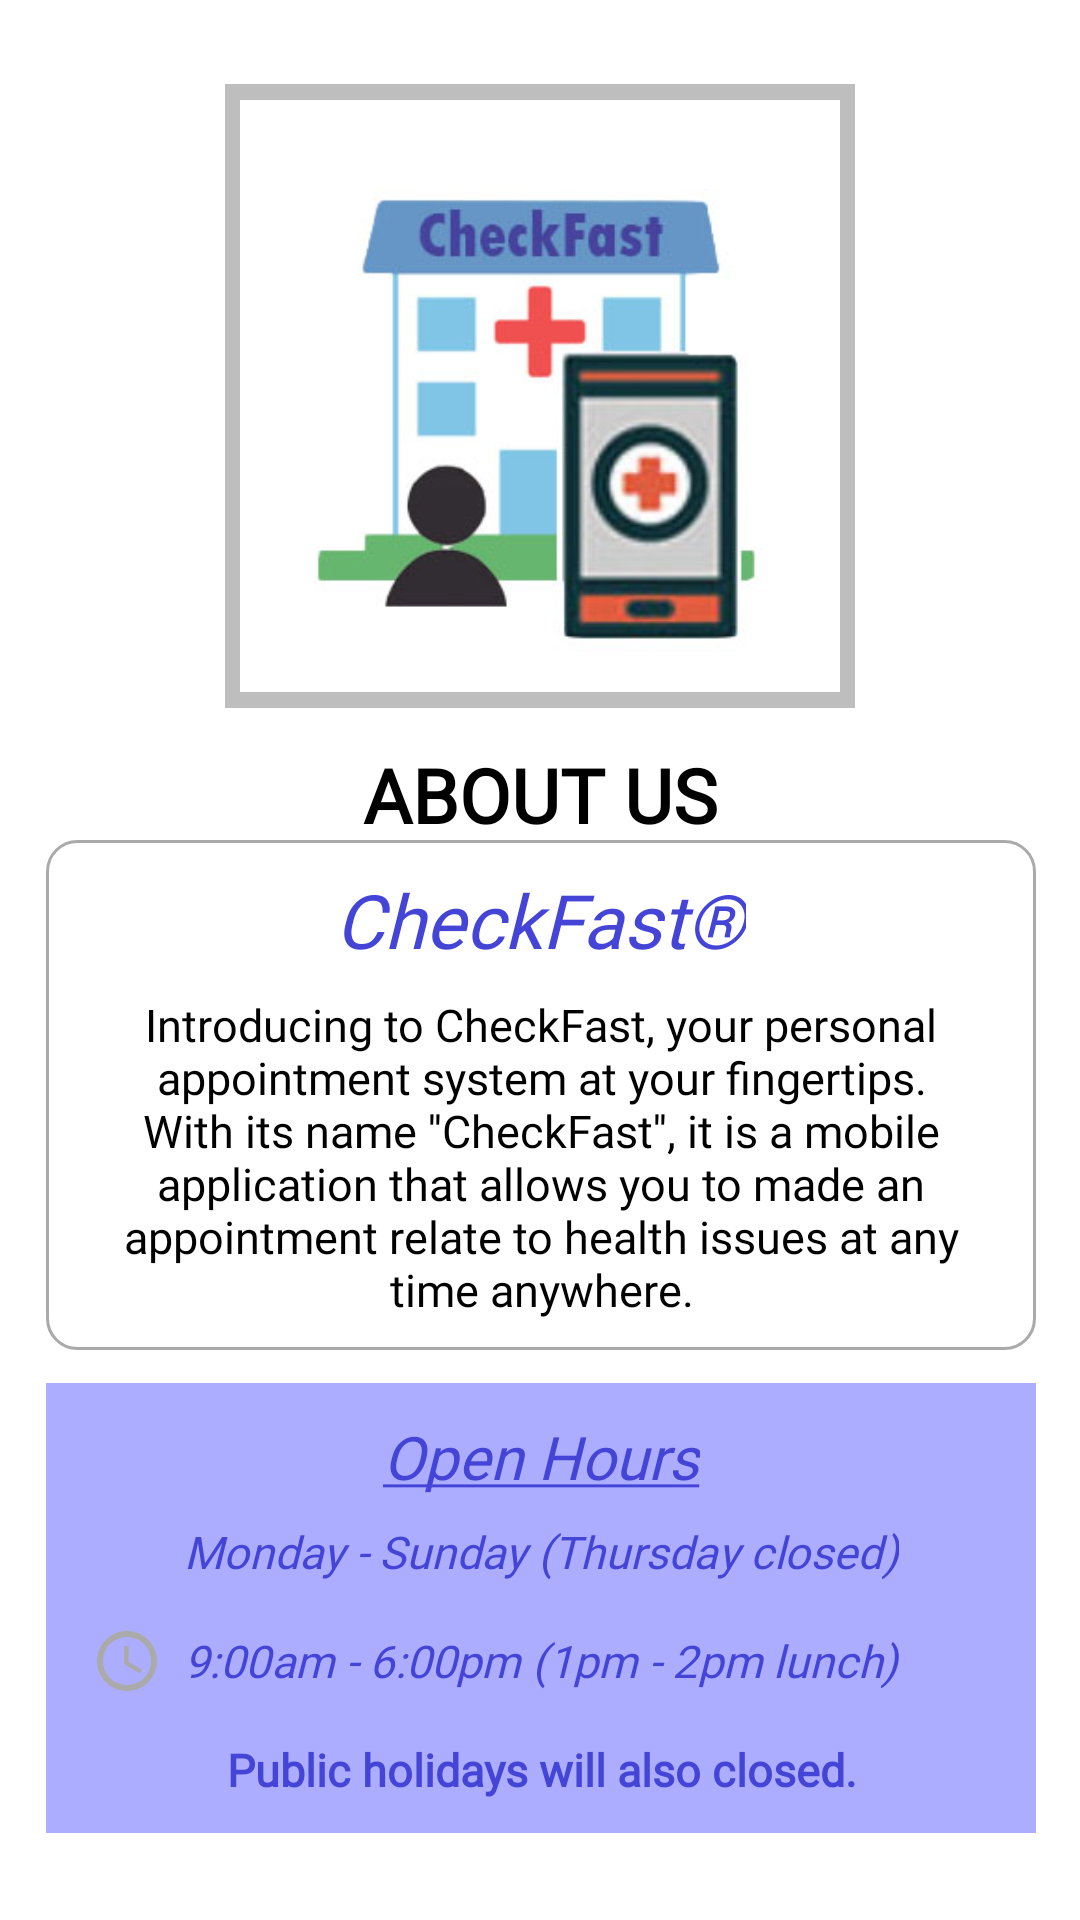

Named icons in this screenshot (1080w x 1920h) and their centers, (x,y):
time: (127,1661)
